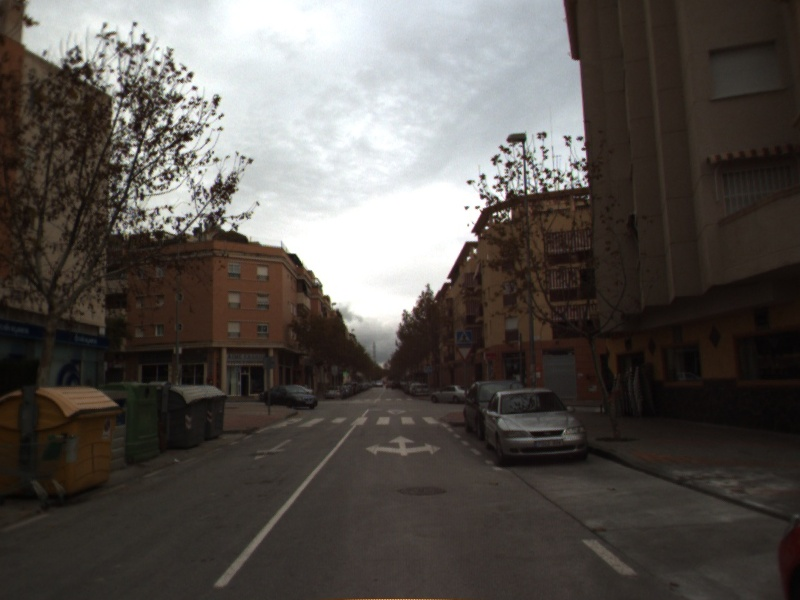STRAIGHT_LEFT_RIGHT: (363, 433, 443, 458)
